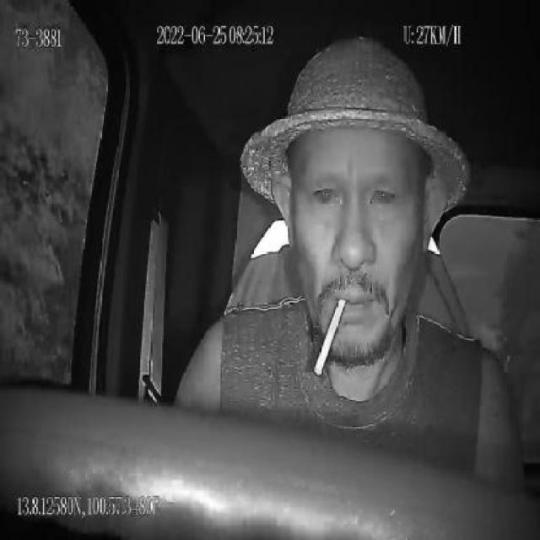smoking: (314, 296, 346, 378)
